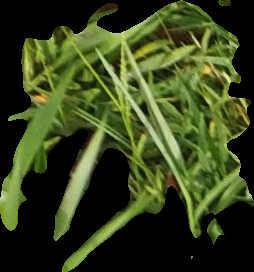grass: (1, 1, 253, 270)
